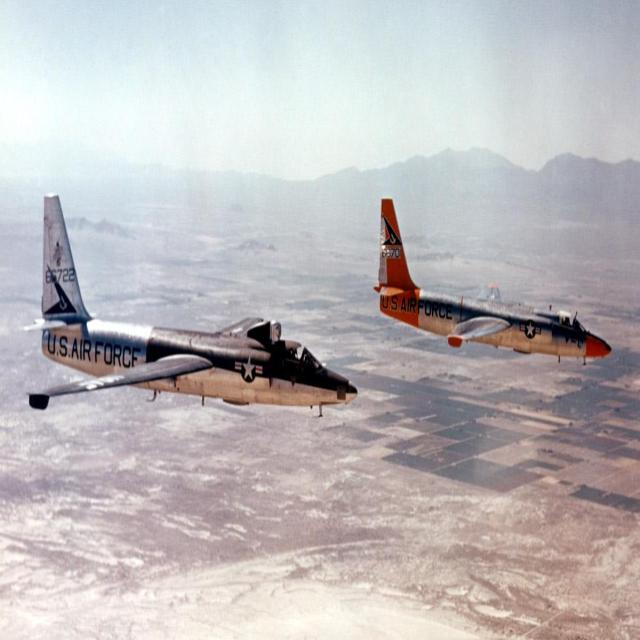MIL_Plane: (20, 192, 358, 418), (372, 197, 612, 366)
